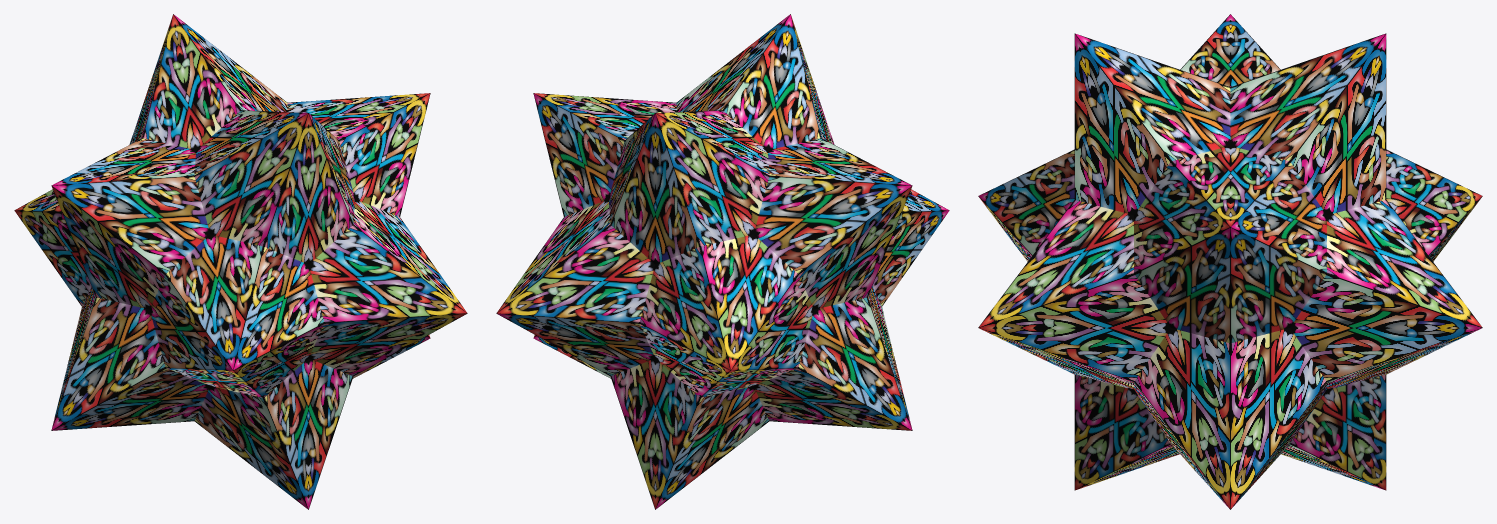
File: 33MedialRhombicTriacontahedron.obj
3 renders of one model, left to right at view 1: azimuth 30°, elevation 25°; view 2: azimuth 150°, elevation 25°; view 3: azimuth 270°, elevation 25°, orthographic. The views are drawn at different scales.
Size of the model in its own units: 2.43 by 2.43 by 2.43.
1 material, 1 textured.
